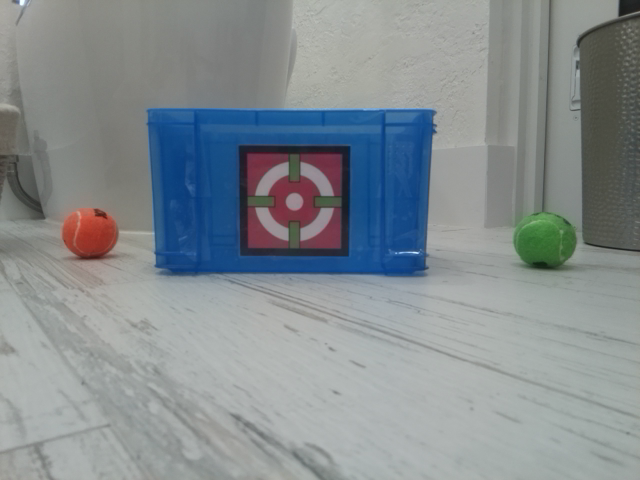drop-bin: (237, 144, 351, 257)
green-ball: (512, 210, 577, 270)
orange-ball: (61, 206, 120, 259)
